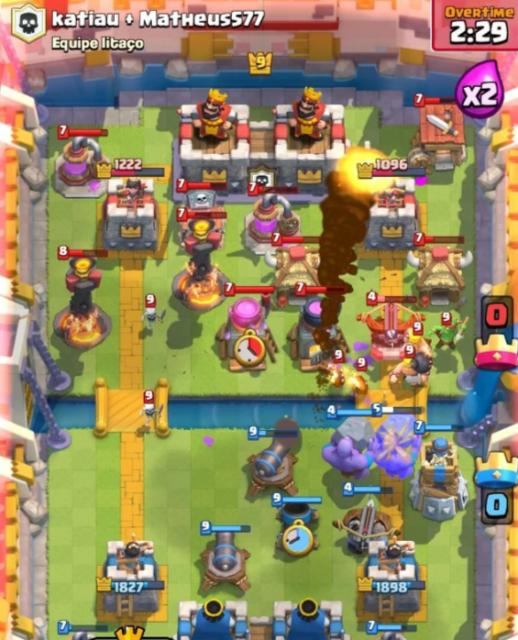ally_building: (410, 421, 469, 522), (332, 482, 402, 555), (196, 521, 254, 594), (246, 425, 299, 498), (271, 492, 322, 550)
ally_melee: (319, 407, 378, 480), (372, 401, 423, 480)
enemy_building: (52, 256, 113, 351), (288, 282, 351, 370), (173, 217, 232, 310), (407, 232, 474, 308), (215, 292, 279, 371), (358, 293, 426, 362), (412, 91, 470, 169), (243, 180, 303, 255), (271, 233, 320, 307), (53, 136, 110, 198), (175, 189, 227, 245)
enemy_melee: (138, 390, 164, 428), (141, 307, 166, 331)
